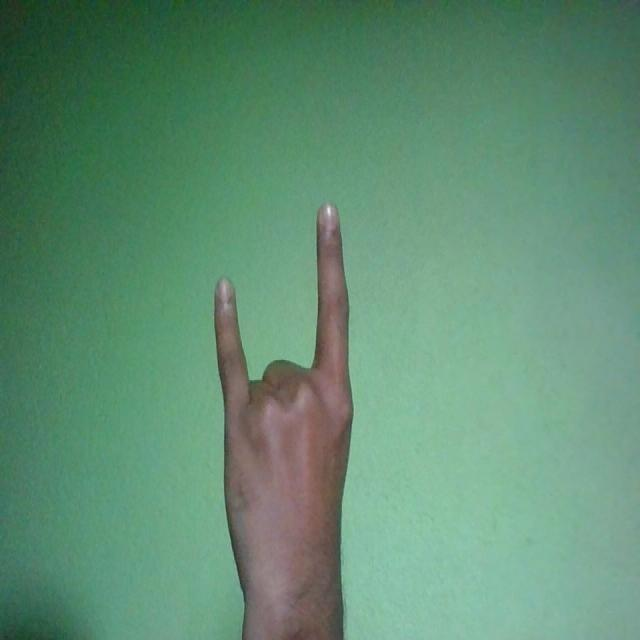open Plam: (213, 199, 354, 632)
